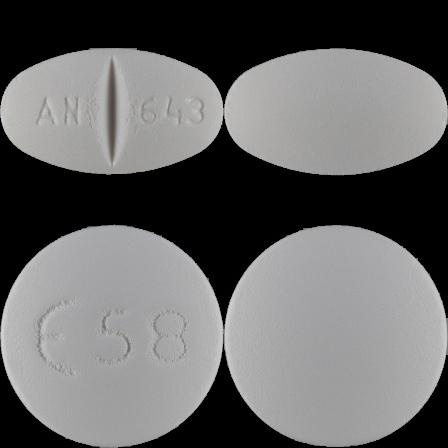50268-322: (0, 0, 224, 224)
